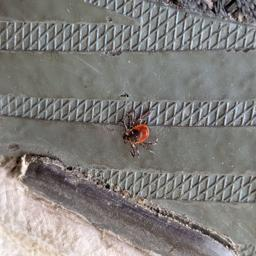Ixodes scapularis: (118, 108, 157, 159)
